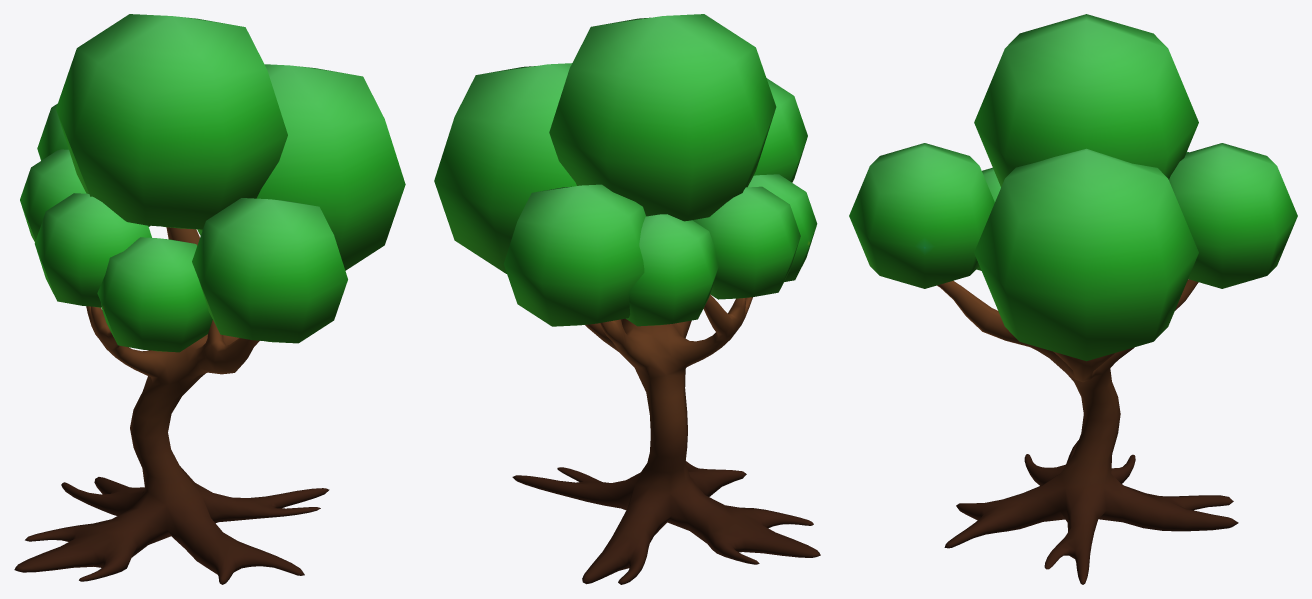
File: Tree.glb
3 views of the same model, side by side, from view 1: azimuth 30°, elevation 25°; view 2: azimuth 150°, elevation 25°; view 3: azimuth 270°, elevation 25° (orthographic). The views are drawn at different scales.
Parts seen in each view (by area): view 1: Cube.005; view 2: Cube.005; view 3: Cube.005.
Boxes of the visible parts, left/top/right/bottom form: Cube.005: left=14, top=14, right=405, bottom=584; Cube.005: left=434, top=14, right=820, bottom=584; Cube.005: left=849, top=14, right=1297, bottom=584.
Size of the model in its own units: 20.89 by 27.92 by 22.31.
1 material, 1 textured.
